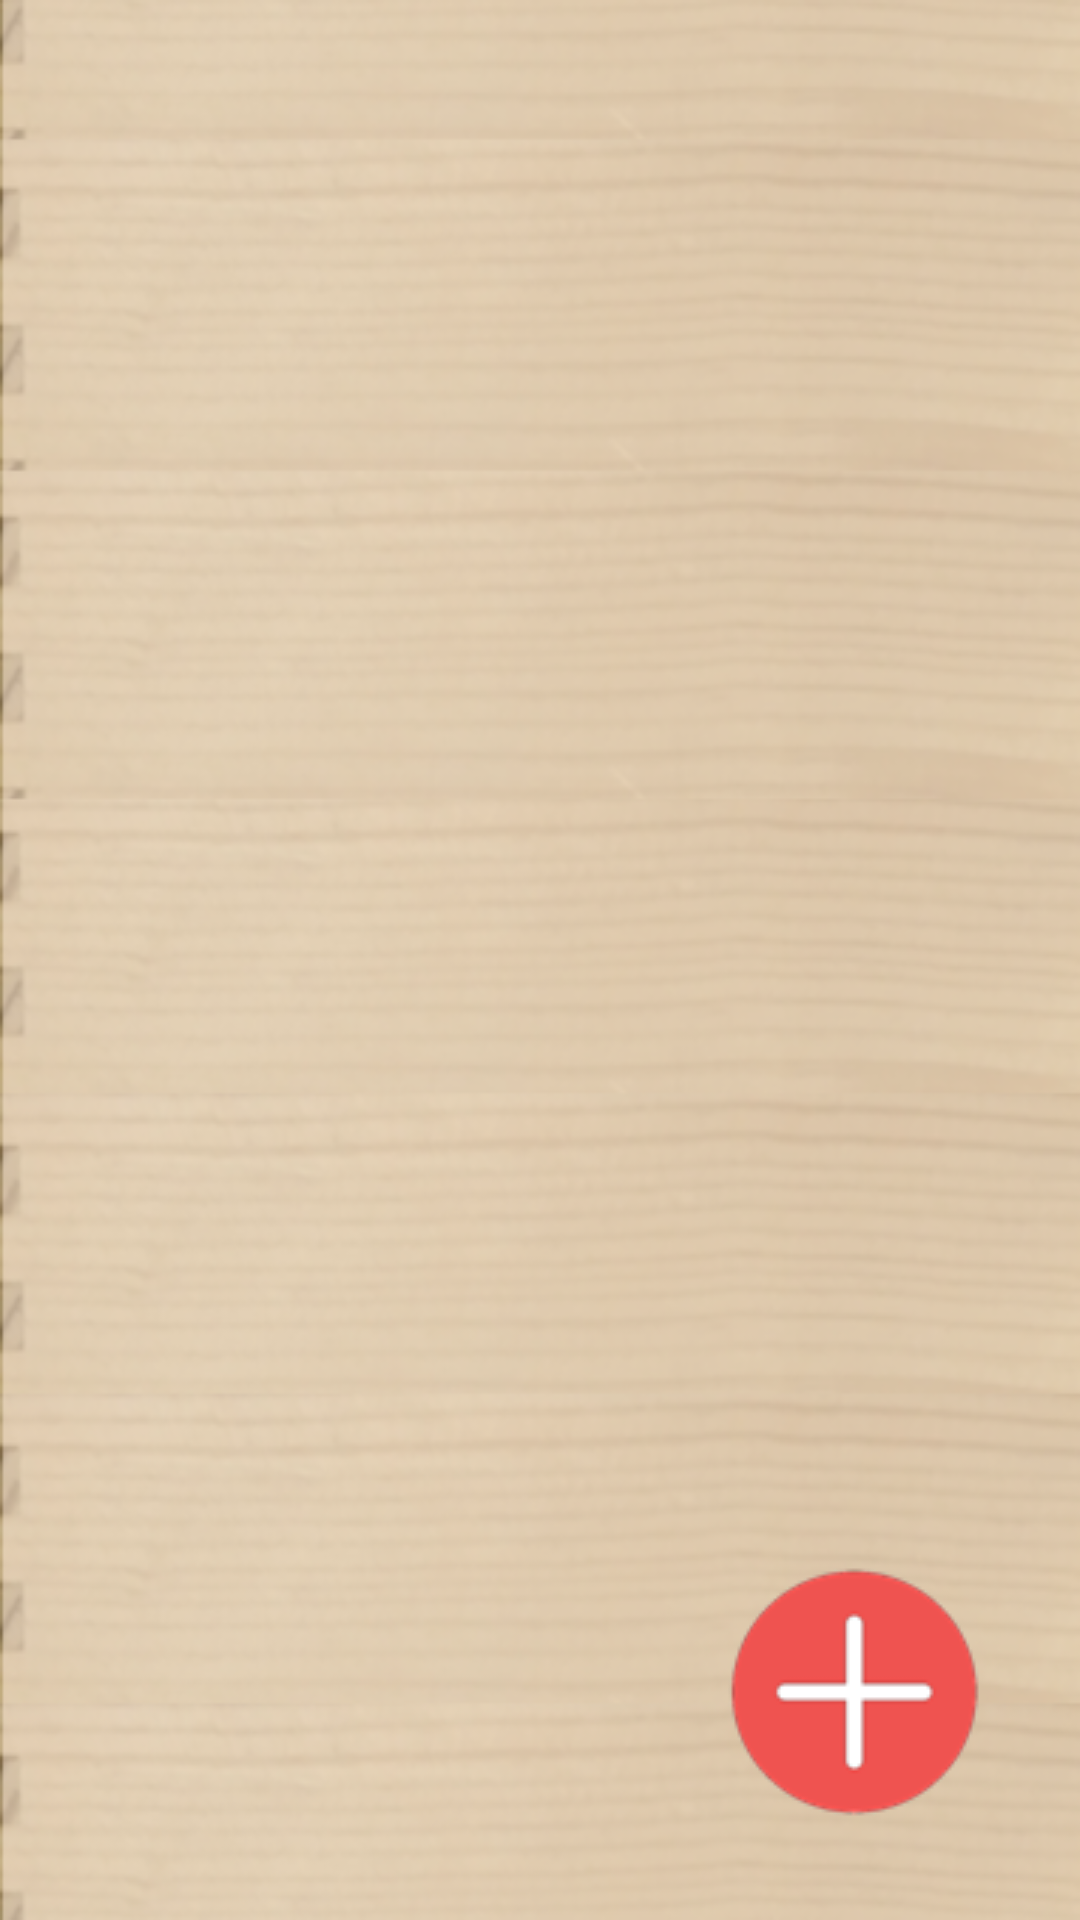

Point at icon controls on the screen. Image size 1080px×1920px, points as (x=x, y=y).
addwine: (x=855, y=1692)
